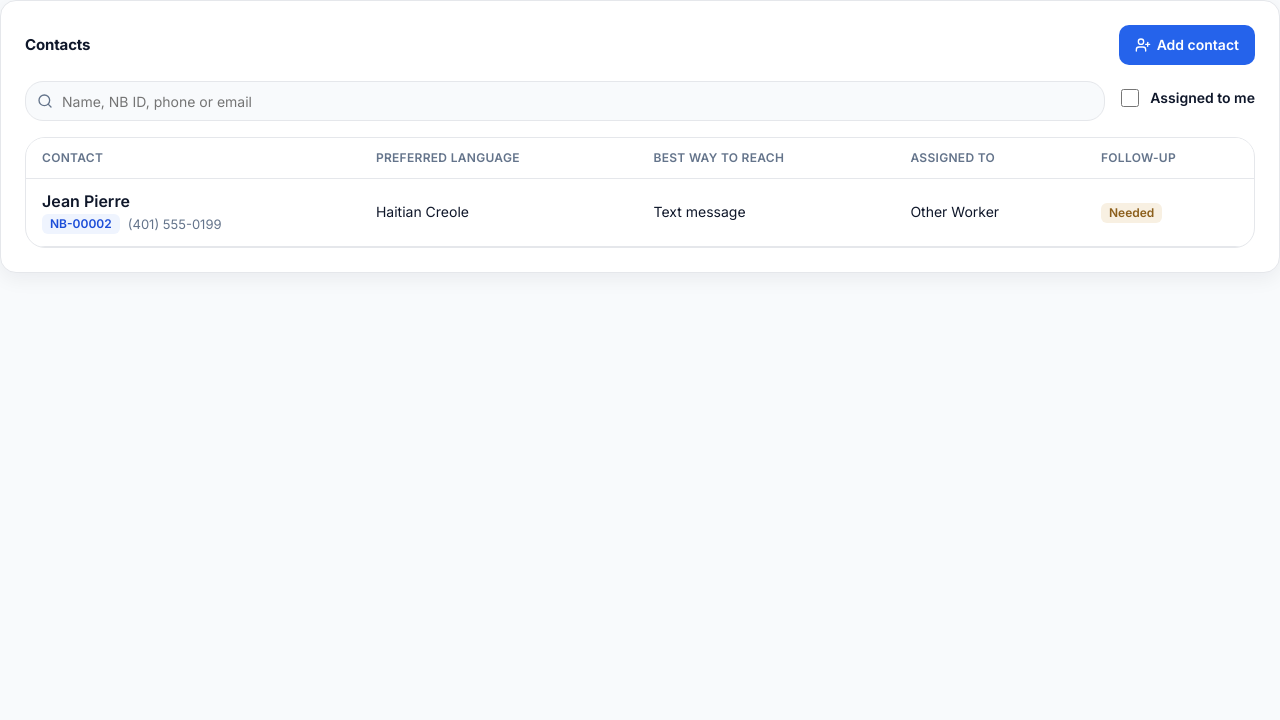
Test: SnapContacts › lets a supervisor edit and reassign
Click the button "Jean Pierre" at (86, 201), box x1=42 y1=191 x2=130 y2=211
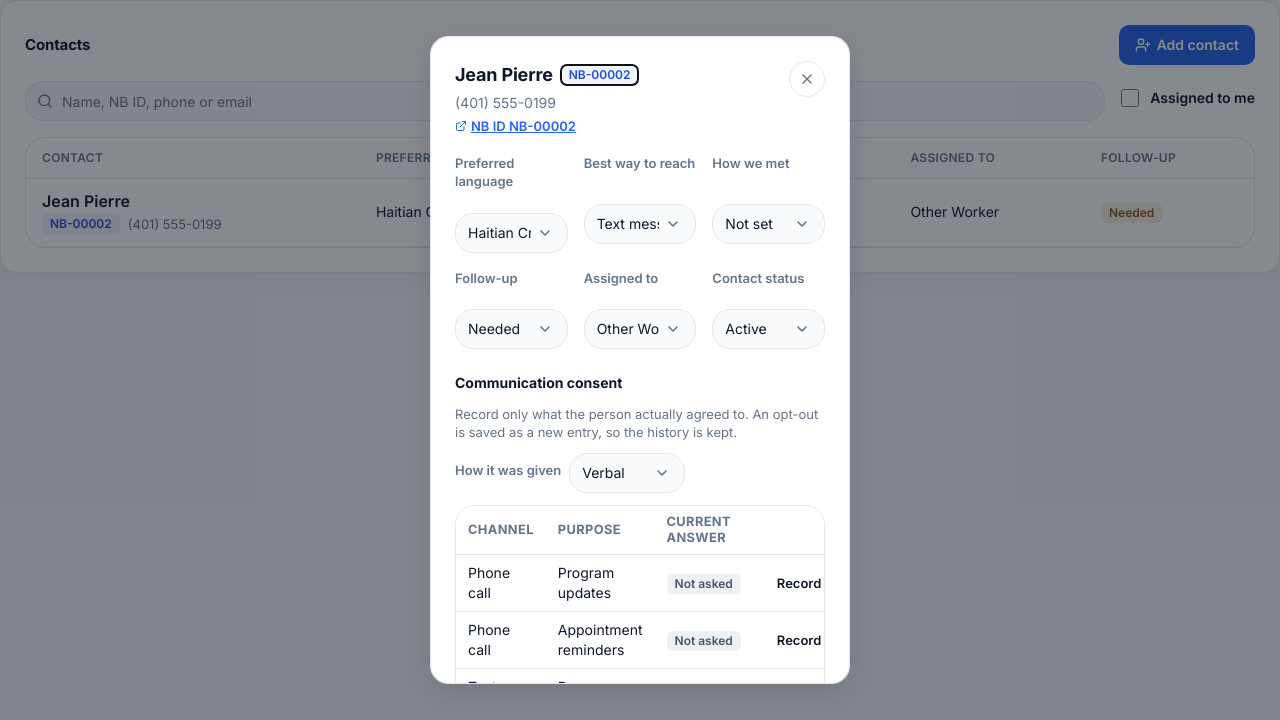
Expected: the dropdown labelled "Preferred language" is enabled, x1=455 y1=213 x2=568 y2=253
